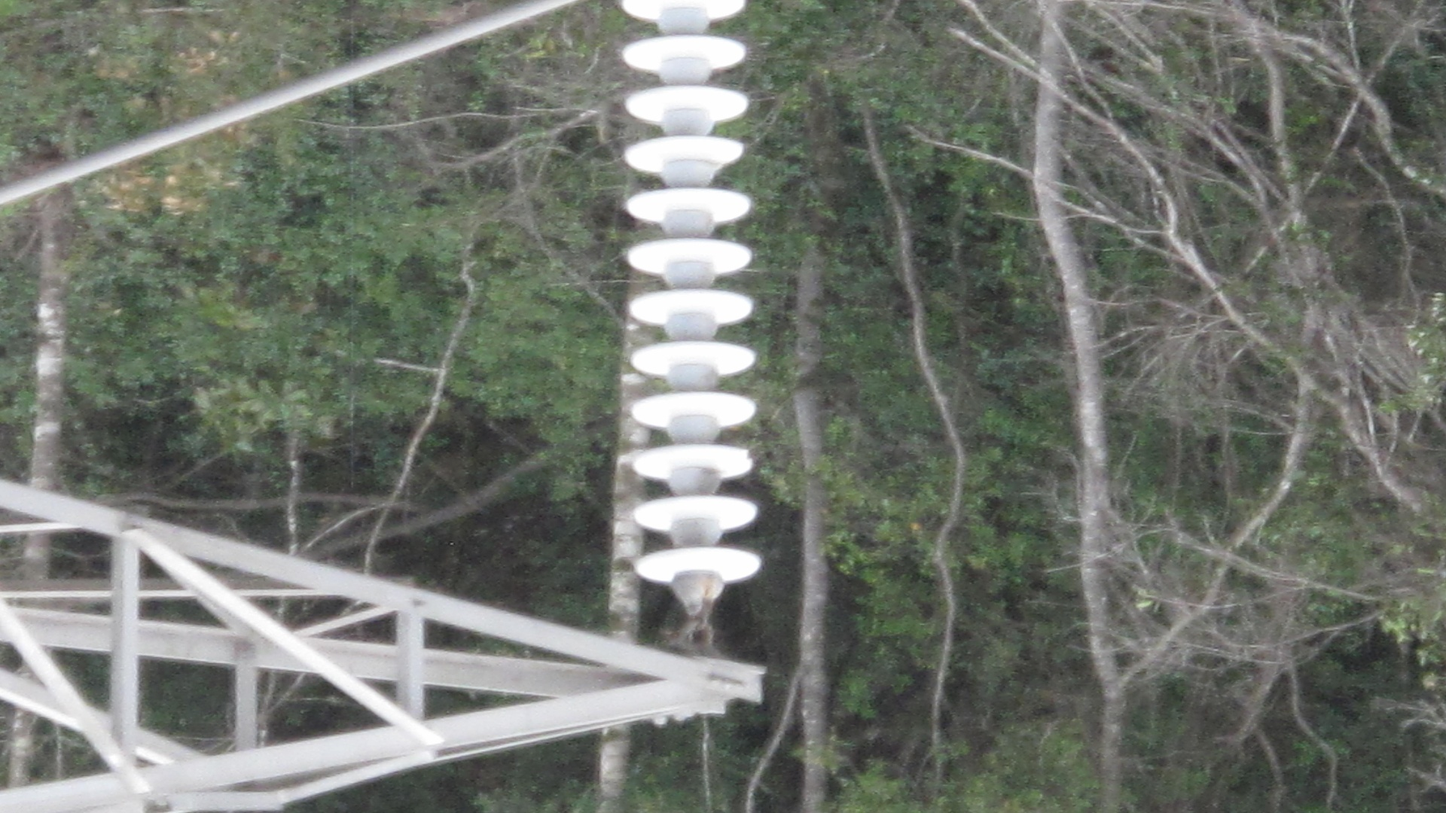insulator: (614, 1, 769, 591)
insulator_breakage: (730, 441, 756, 470)
